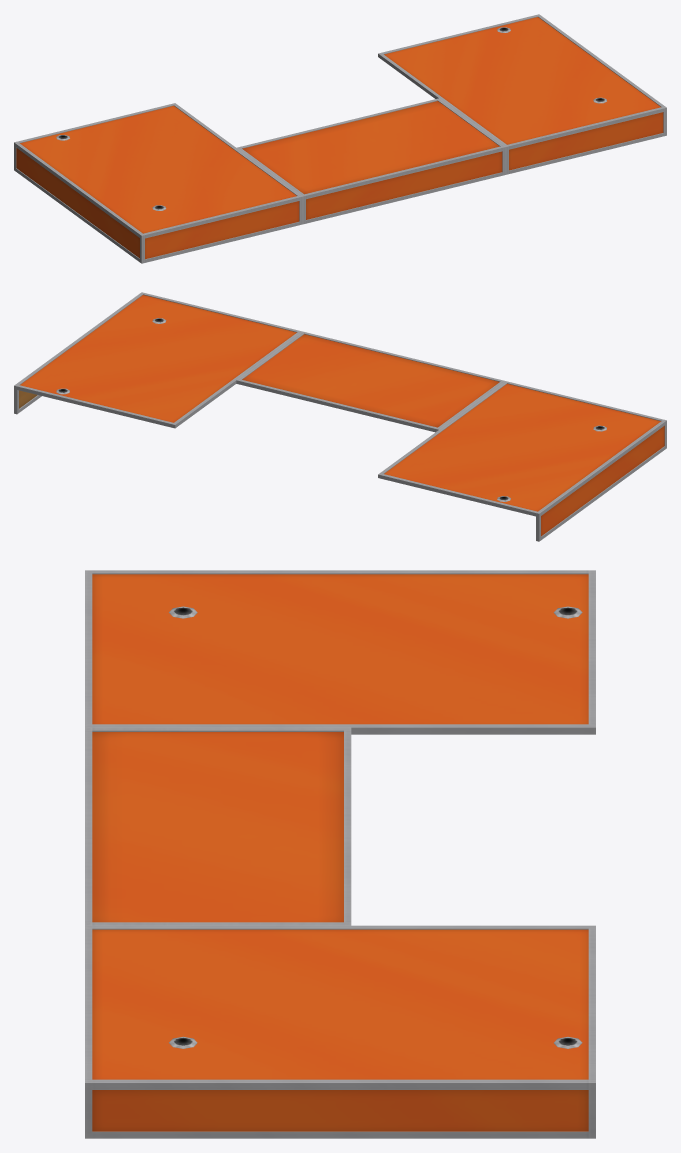
File: jsf_4P_s02_c01_t04_DX.fbx
3 renders of one model, top to bottom at view 1: azimuth 30°, elevation 25°; view 2: azimuth 150°, elevation 25°; view 3: azimuth 270°, elevation 25°, orthographic. The views are drawn at different scales.
Parts seen in each view (by area): view 1: jsf_4P_s02_c01_t04_DX; view 2: jsf_4P_s02_c01_t04_DX; view 3: jsf_4P_s02_c01_t04_DX.
Boxes of the visible parts, x1,y1,x2,y2 form: jsf_4P_s02_c01_t04_DX: (14,14,666,263); jsf_4P_s02_c01_t04_DX: (14,292,666,541); jsf_4P_s02_c01_t04_DX: (85,570,595,1138).
Bounding box in the file's own units: 246 × 12.99 × 104.
